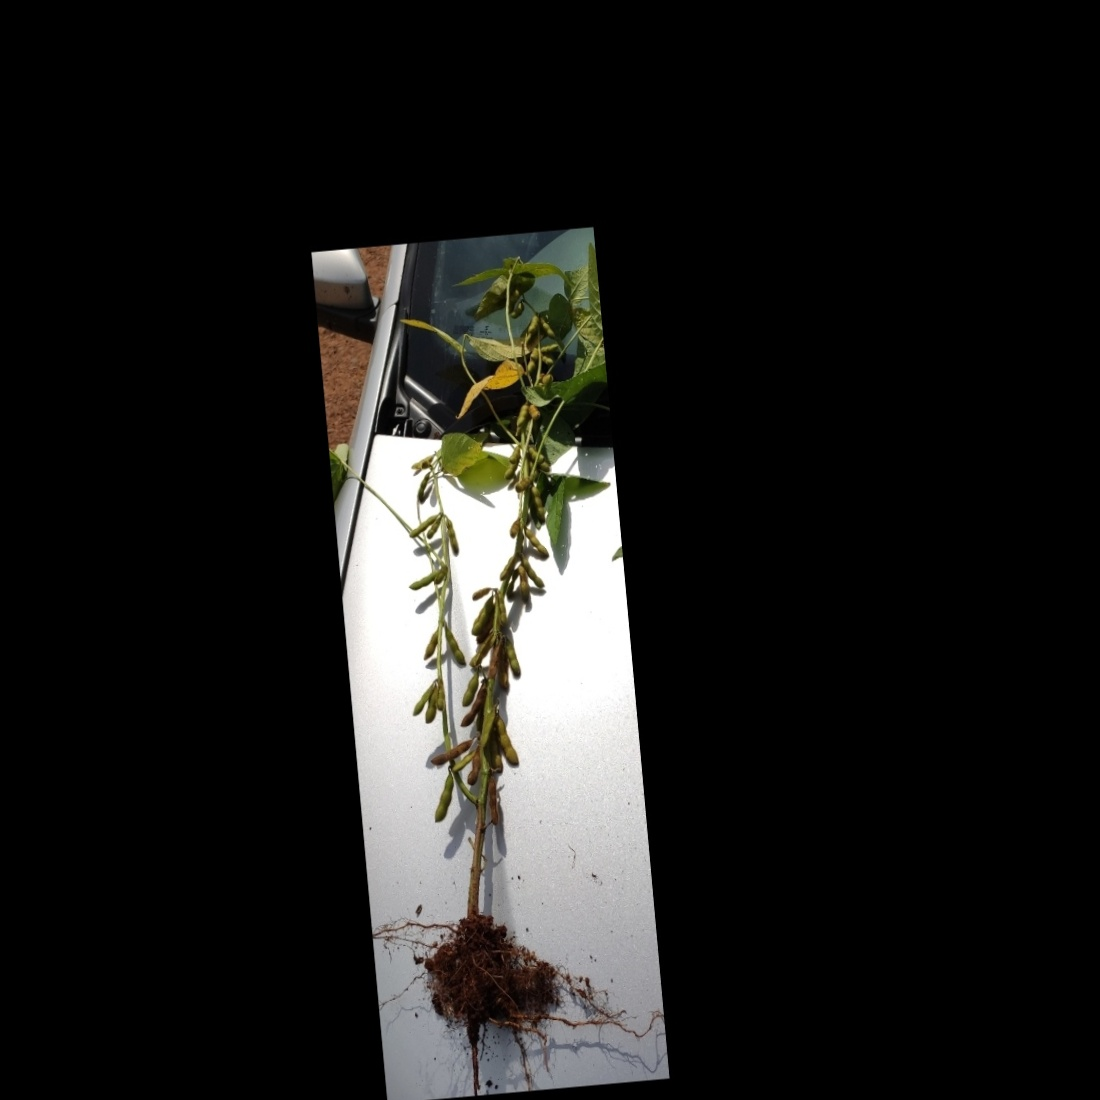pod: (421, 734, 479, 771), (427, 765, 458, 826), (493, 711, 521, 776), (406, 677, 442, 722), (439, 620, 468, 672), (453, 663, 486, 710), (502, 632, 526, 688), (523, 519, 553, 563), (482, 776, 506, 830), (404, 511, 443, 540), (446, 749, 487, 777), (520, 558, 547, 594), (442, 511, 461, 561), (405, 569, 440, 595), (515, 560, 532, 604), (505, 474, 536, 496), (512, 397, 533, 428)
soy: (310, 240, 662, 1065)
